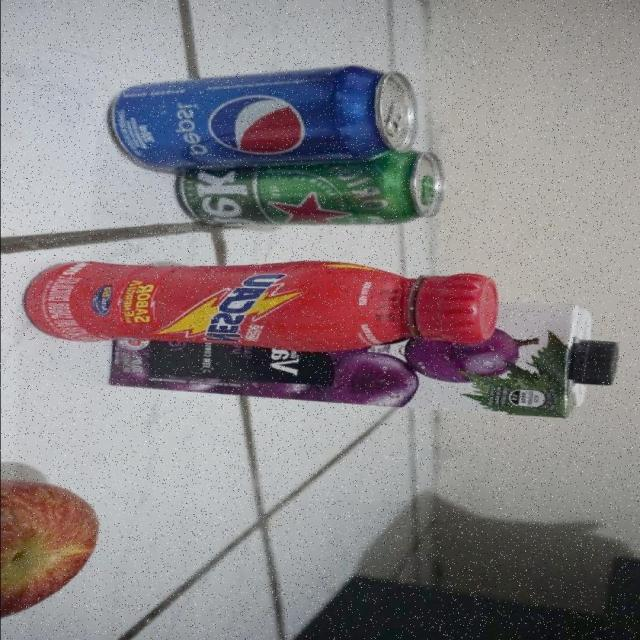Apple: (1, 476, 107, 620)
BeerCan: (186, 162, 448, 230)
ChocolateMilk: (35, 264, 498, 346)
SodaCan: (116, 72, 420, 161)
